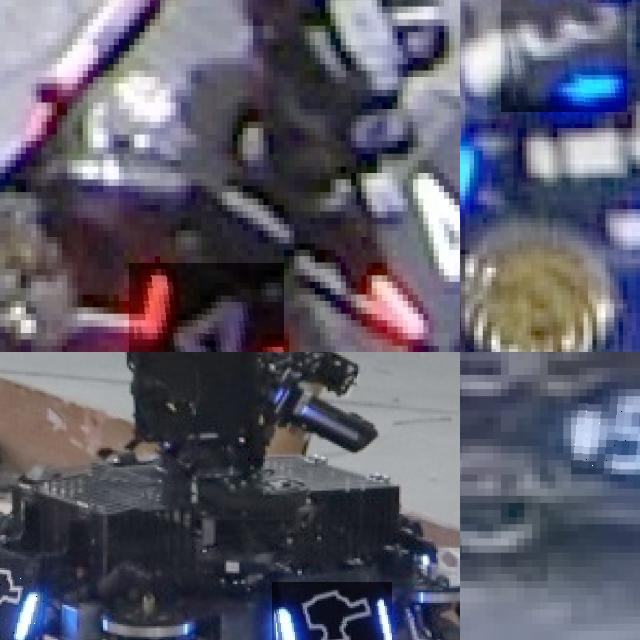B3: (500, 0, 627, 112), (460, 65, 483, 200)
B5: (571, 396, 640, 474)
Bs: (271, 582, 392, 640), (0, 558, 44, 640)
R4: (129, 262, 284, 352)
